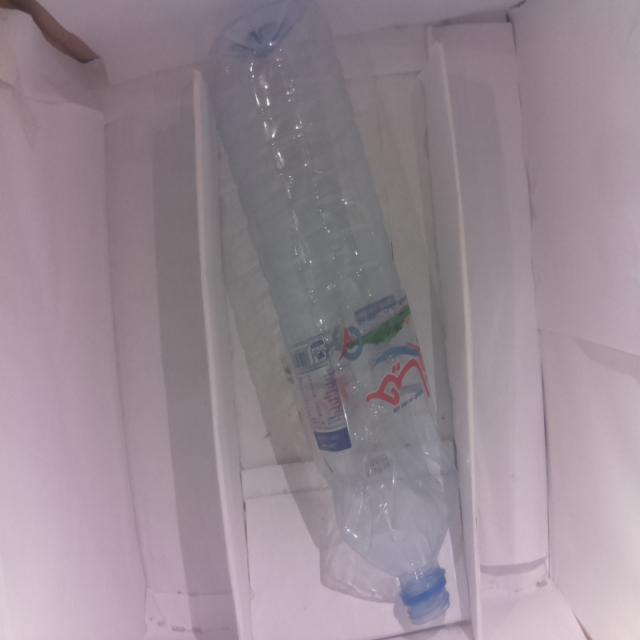plastic_bottle: (198, 3, 460, 627)
